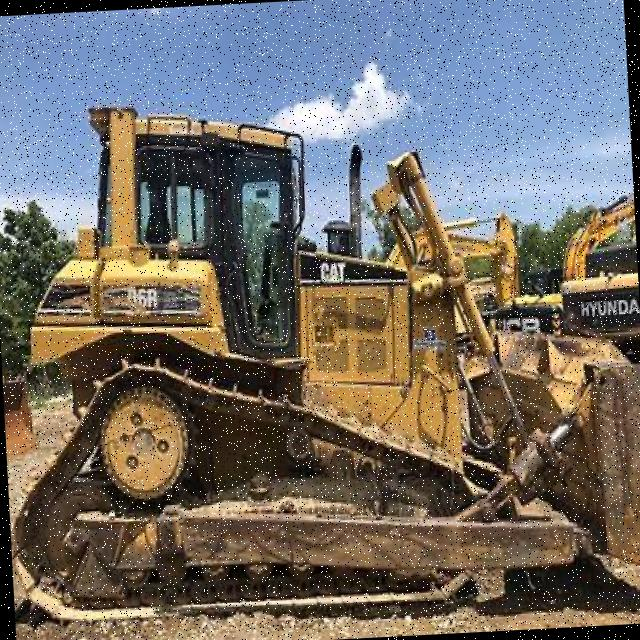Bulldozer: (3, 59, 640, 640)
